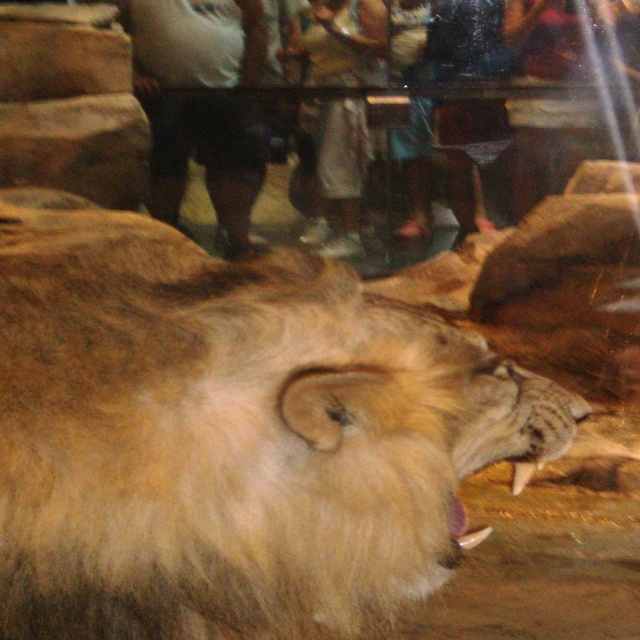Lion: (0, 212, 593, 640)
